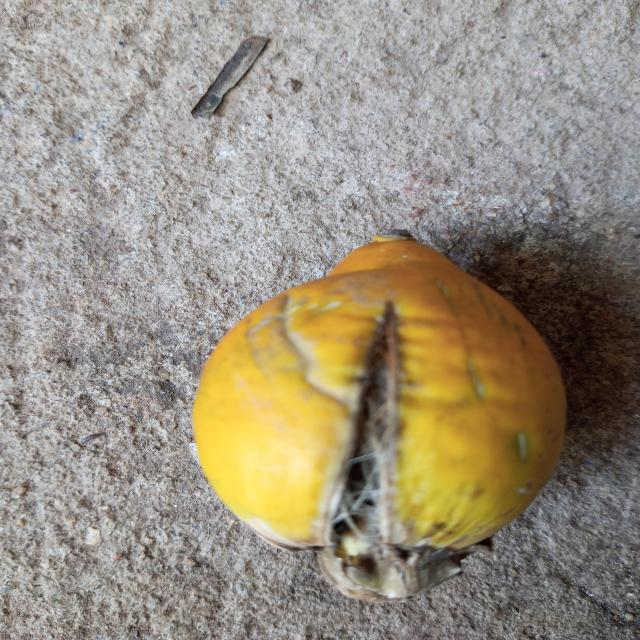damaged: (193, 230, 566, 600)
